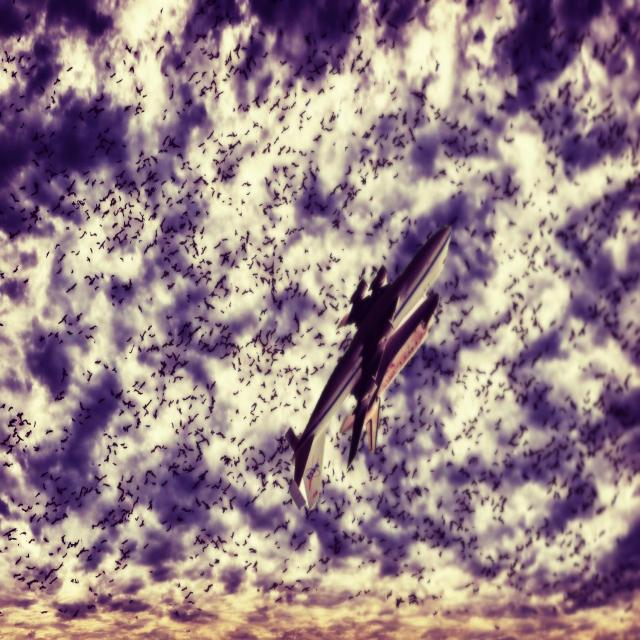airplane: (284, 221, 453, 514)
